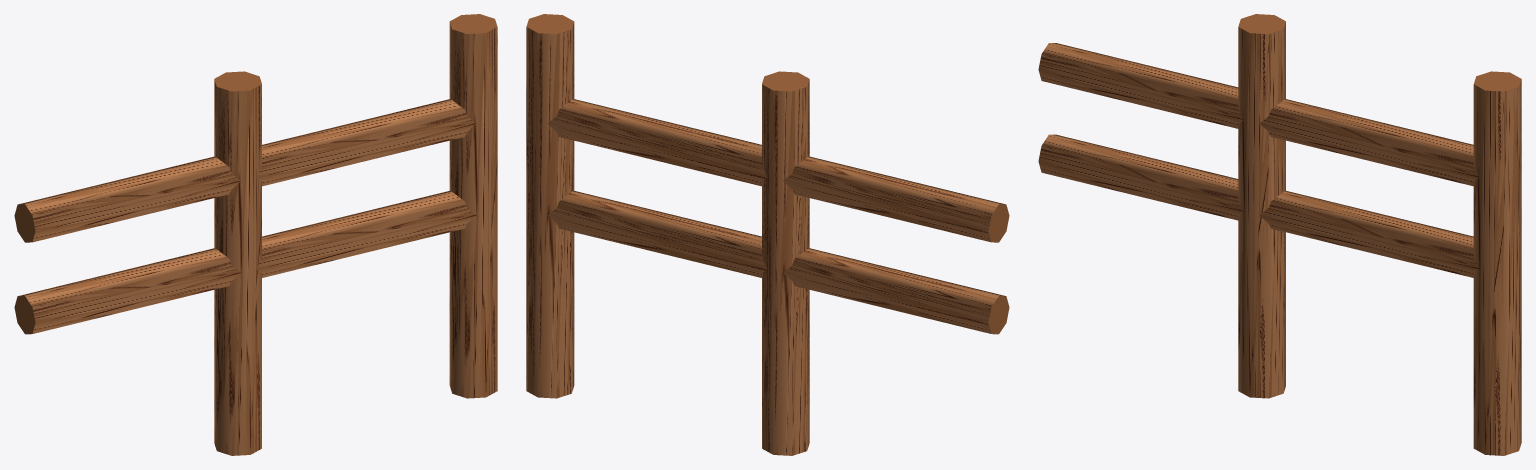
Rendered from Fence@Model.fbx.
The picture shows the model from 3 angles, left to right: view 1: azimuth 30°, elevation 25°; view 2: azimuth 150°, elevation 25°; view 3: azimuth 330°, elevation 25°; orthographic projection.
Parts seen in each view (by area): view 1: PenceL; view 2: PenceL; view 3: PenceL.
Boxes of the visible parts, <box> form: PenceL: <box>14,14,497,455</box>; PenceL: <box>526,14,1009,455</box>; PenceL: <box>1038,14,1521,455</box>.
Size of the model in its own units: 221 by 164 by 20.14.
